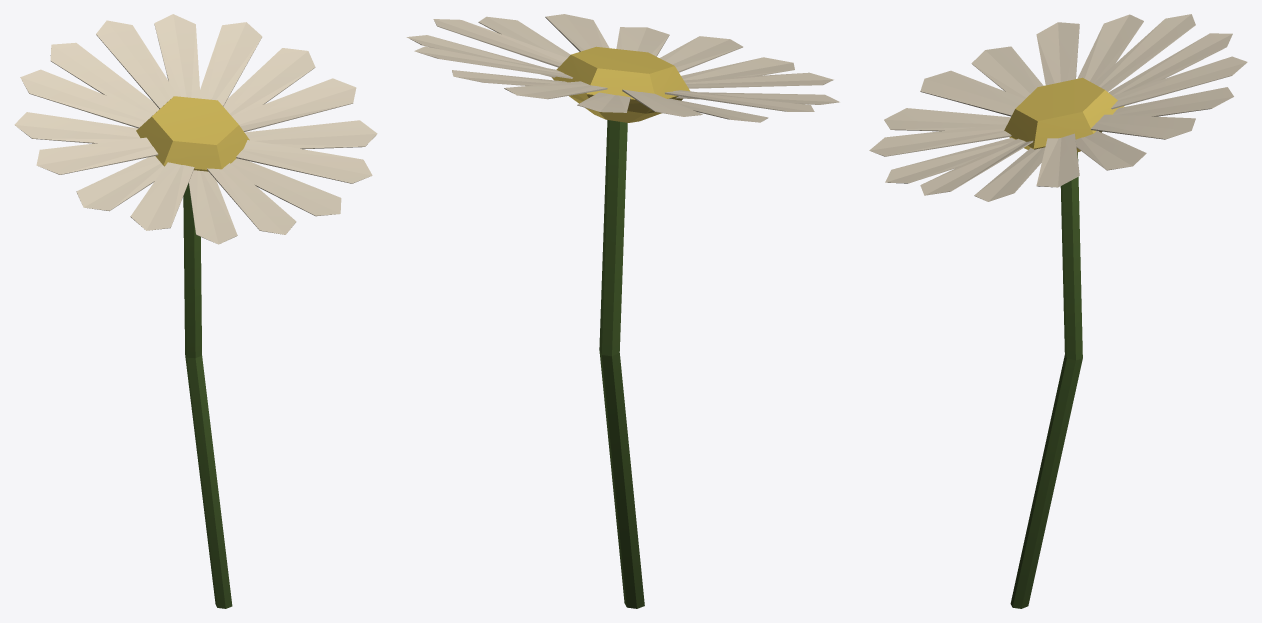
File: Env_Daisy_High_Detail_01.obj
3 views of the same model, side by side, from view 1: azimuth 30°, elevation 25°; view 2: azimuth 150°, elevation 25°; view 3: azimuth 270°, elevation 25° (orthographic). The views are drawn at different scales.
Visible parts, largest first — view 1: Env_Daisy_High_Detail_01; view 2: Env_Daisy_High_Detail_01; view 3: Env_Daisy_High_Detail_01.
Boxes of the visible parts, box(x1,y1,x2,y2) form: Env_Daisy_High_Detail_01: box(14, 14, 377, 608); Env_Daisy_High_Detail_01: box(406, 14, 839, 608); Env_Daisy_High_Detail_01: box(869, 14, 1247, 608).
Size of the model in its own units: 0.1238 by 0.1879 by 0.1199.
1 material, 1 textured.
